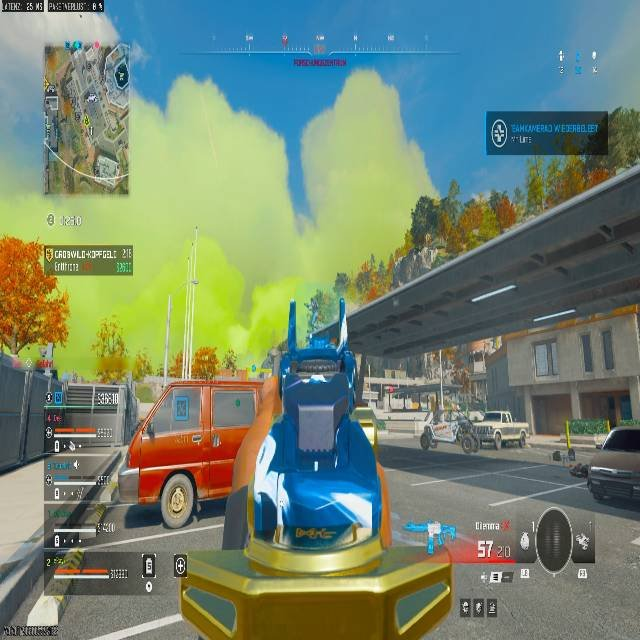player: (455, 417, 477, 455)
